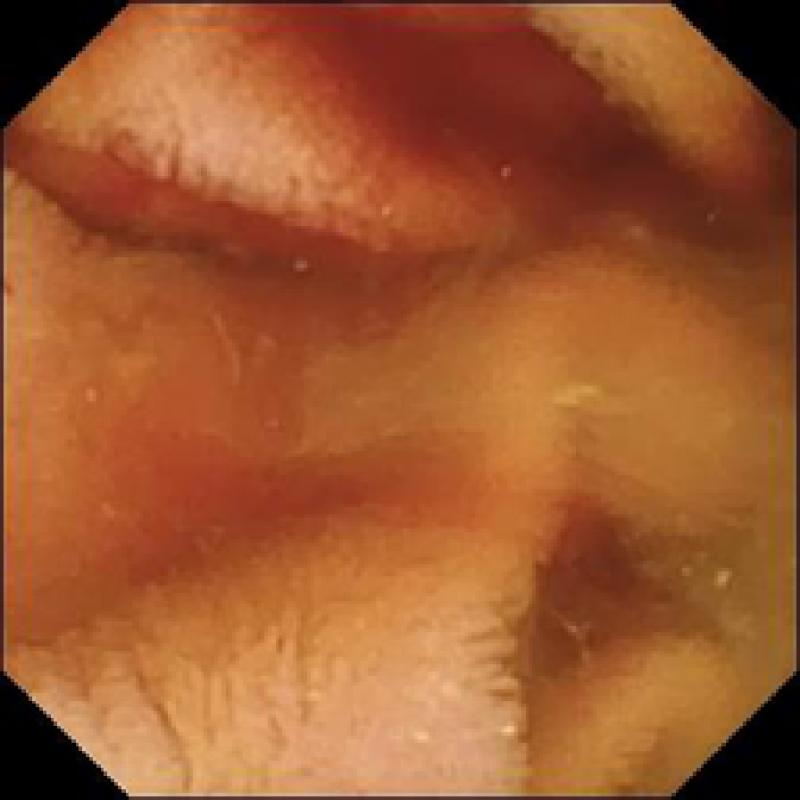bleeding: (47, 4, 757, 289), (40, 427, 416, 602), (531, 494, 719, 683)
